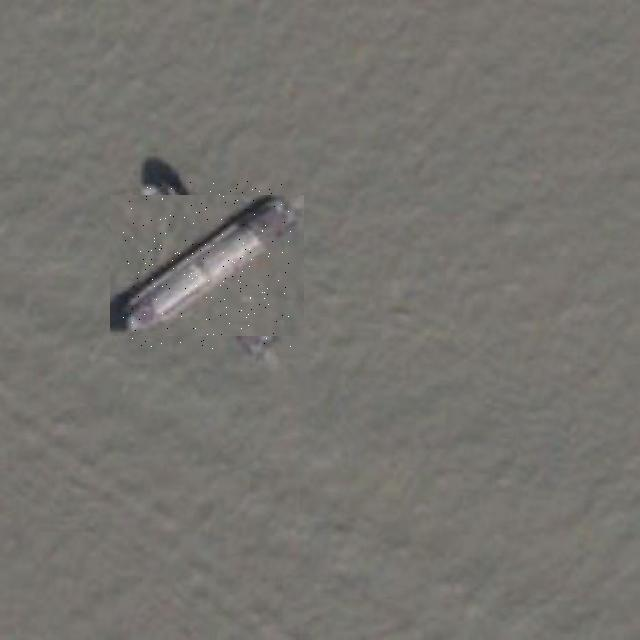boat: (123, 181, 291, 349)
